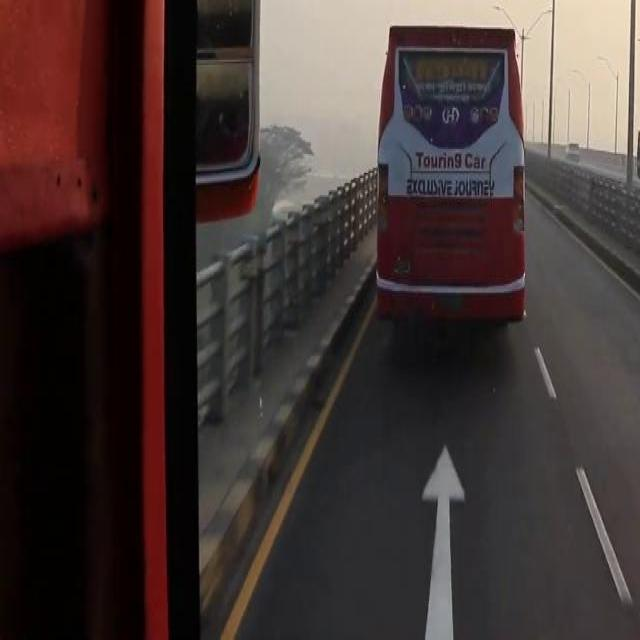bus: (376, 23, 524, 324)
van: (564, 140, 580, 159)
